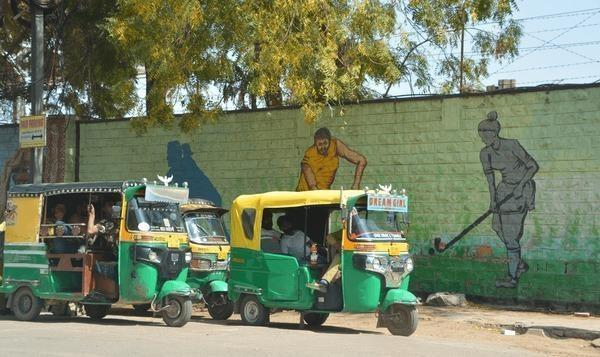keke: (227, 190, 416, 340), (1, 185, 192, 330)
